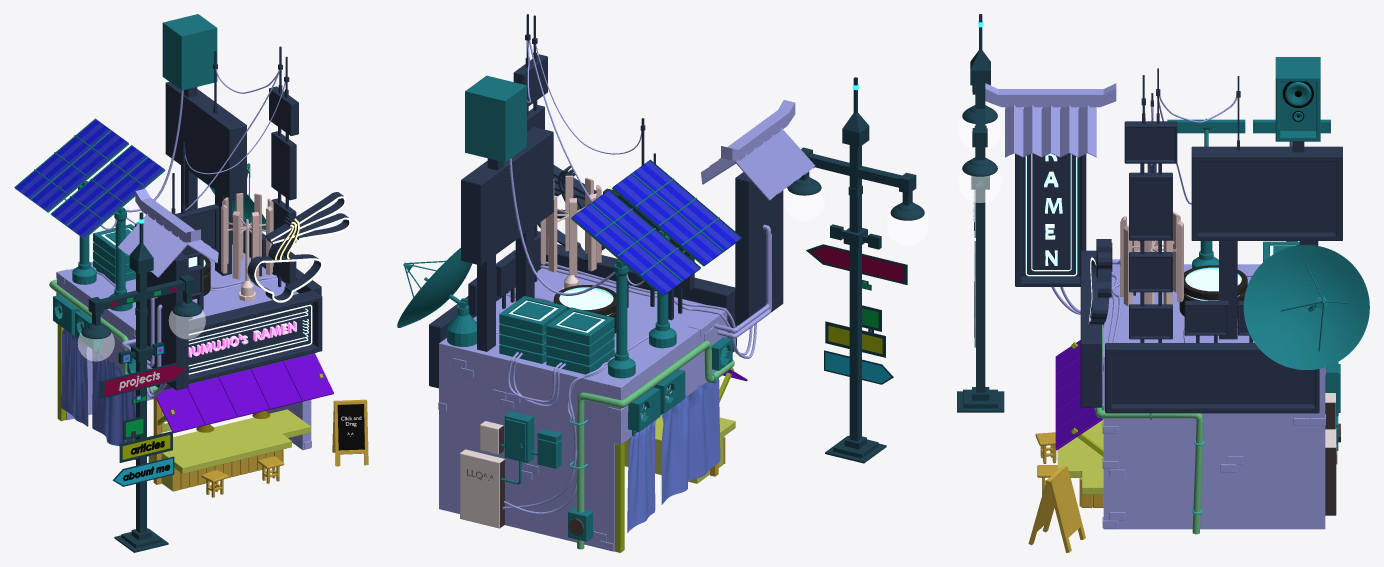
Rendered from new_exports.glb.
3 views of the same model, side by side, from view 1: azimuth 30°, elevation 25°; view 2: azimuth 150°, elevation 25°; view 3: azimuth 270°, elevation 25° (orthographic). The views are drawn at different scales.
Visible parts, largest first — view 1: 正面遮挡棚子, 正面招牌, 立方体.097, 立方体.007, 立方体.029, 立方体, 立方体.108, 立方体.113, 立方体.102, 侧面牌子, 平面.015, 立方体.067 (+35 smaller); view 2: 立方体.007, 立方体.097, 立方体, 侧面牌子, 立方体.113, 立方体.108, 平面.015, 立方体.102, 立方体.067, 顶部电池.001, 立方体.046, 立方体.055 (+34 smaller); view 3: 立方体.007, 电视信号塔转动部分, 侧面电视7, 侧面大电视, 侧面牌子, 立方体.097, 立方体.067, 立方体.016, 立方体, 立方体.102, 正面遮挡棚子, 正面招牌 (+30 smaller).
Part boxes in pixels (bbox=[...]): 正面遮挡棚子: bbox=[155, 353, 333, 433]; 正面招牌: bbox=[155, 290, 322, 389]; 立方体.097: bbox=[165, 81, 246, 200]; 立方体.007: bbox=[57, 244, 311, 450]; 立方体.029: bbox=[148, 409, 310, 490]; 立方体: bbox=[88, 212, 194, 552]; 立方体.108: bbox=[14, 118, 128, 212]; 立方体.113: bbox=[50, 145, 165, 239]; 立方体.102: bbox=[162, 14, 217, 90]; 侧面牌子: bbox=[147, 252, 188, 390]; 平面.015: bbox=[92, 349, 135, 459]; 立方体.067: bbox=[118, 213, 218, 277]; 立方体.007: bbox=[439, 265, 727, 551]; 立方体.097: bbox=[461, 127, 553, 265]; 立方体: bbox=[799, 77, 916, 463]; 侧面牌子: bbox=[735, 172, 783, 325]; 立方体.113: bbox=[612, 159, 741, 266]; 立方体.108: bbox=[571, 189, 700, 296]; 平面.015: bbox=[661, 378, 720, 504]; 立方体.102: bbox=[465, 75, 526, 162]; 立方体.067: bbox=[701, 128, 815, 200]; 顶部电池.001: bbox=[546, 307, 614, 374]; 立方体.046: bbox=[460, 449, 504, 528]; 立方体.055: bbox=[577, 340, 734, 549]; 立方体.007: bbox=[1103, 264, 1325, 529]; 电视信号塔转动部分: bbox=[1243, 245, 1369, 369]; 侧面电视7: bbox=[1198, 161, 1335, 232]; 侧面大电视: bbox=[1112, 353, 1314, 404]; 侧面牌子: bbox=[1015, 153, 1086, 286]; 立方体.097: bbox=[1191, 146, 1342, 240]; 立方体.067: bbox=[1005, 104, 1096, 157]; 立方体.016: bbox=[1105, 343, 1319, 413]; 立方体: bbox=[957, 14, 1004, 412]; 立方体.102: bbox=[1275, 57, 1320, 141]; 正面遮挡棚子: bbox=[1055, 328, 1103, 450]; 正面招牌: bbox=[1080, 250, 1101, 407].
Size of what is drawn, in the model's own units: 14.16 by 16.25 by 13.26.
